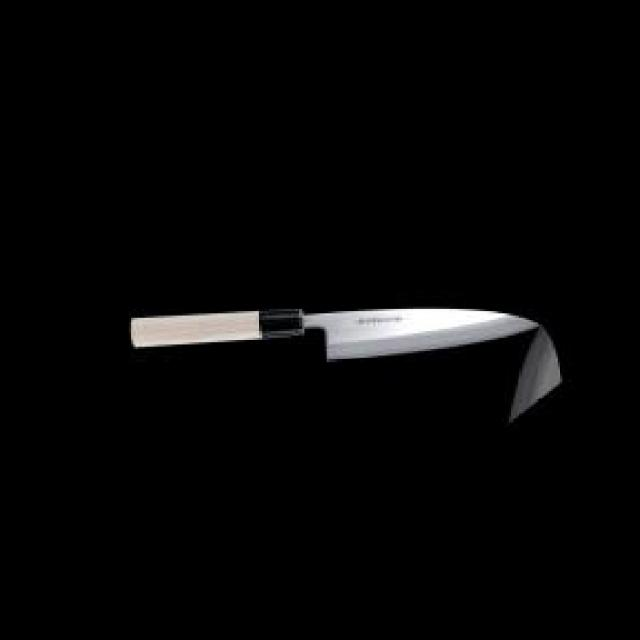knife: (124, 309, 549, 362)
